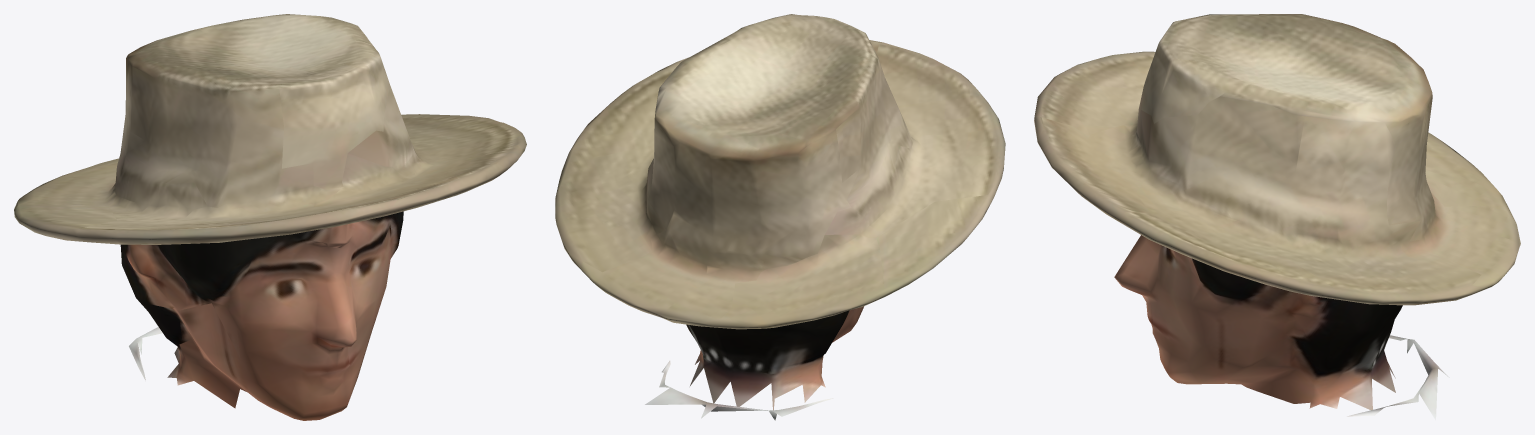
Rendered from hombre_cabeza.obj.
The picture shows the model from 3 angles, left to right: view 1: azimuth 30°, elevation 25°; view 2: azimuth 150°, elevation 25°; view 3: azimuth 270°, elevation 25°; orthographic projection. The views are drawn at different scales.
Visible parts, largest first — view 1: hombre_cabeza; view 2: hombre_cabeza; view 3: hombre_cabeza.
Boxes of the visible parts, left/top/right/bottom form: hombre_cabeza: left=14, top=14, right=526, bottom=420; hombre_cabeza: left=555, top=14, right=1005, bottom=420; hombre_cabeza: left=1034, top=14, right=1520, bottom=420.
Bounding box in the file's own units: 0.3964 × 0.304 × 0.384.
